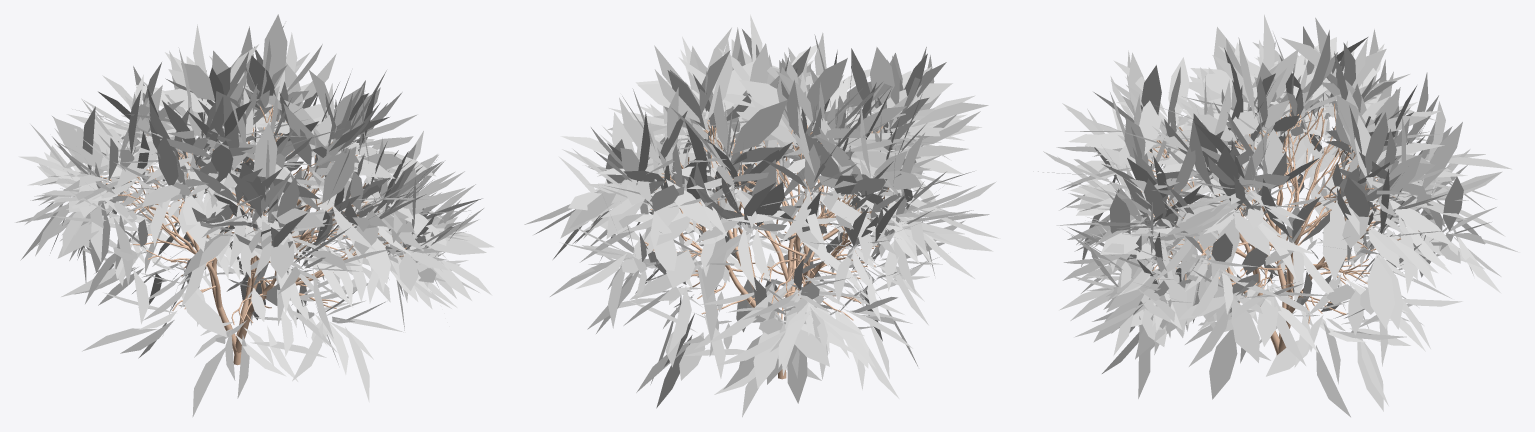
The model's file is Bush.fbx.
3 views of the same model, side by side, from view 1: azimuth 30°, elevation 25°; view 2: azimuth 150°, elevation 25°; view 3: azimuth 270°, elevation 25° (orthographic). The views are drawn at different scales.
Visible parts, largest first — view 1: BushLeaves, Bush; view 2: BushLeaves, Bush; view 3: BushLeaves, Bush.
Part boxes in pixels (x1,y1,x2,y2): BushLeaves: [15, 14, 494, 417]; Bush: [100, 105, 406, 365]; BushLeaves: [524, 14, 1000, 417]; Bush: [640, 120, 896, 379]; BushLeaves: [1033, 14, 1519, 417]; Bush: [1131, 99, 1418, 355].
Bounding box in the file's own units: 114 × 88.68 × 120.
